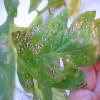Tomato Septoria leaf spot: (9, 13, 96, 98)
